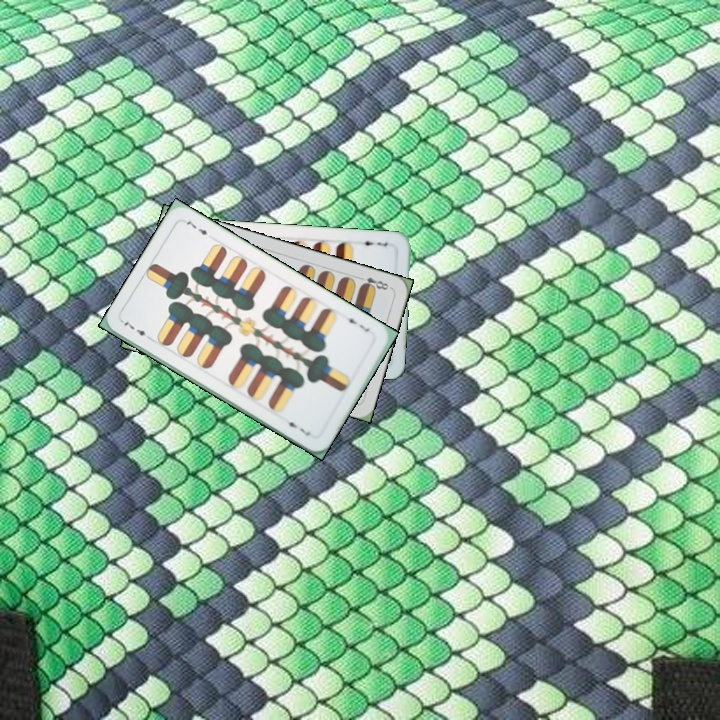E7: (119, 317, 155, 343), (341, 312, 372, 335), (356, 237, 391, 249)
E8: (354, 273, 394, 293)
